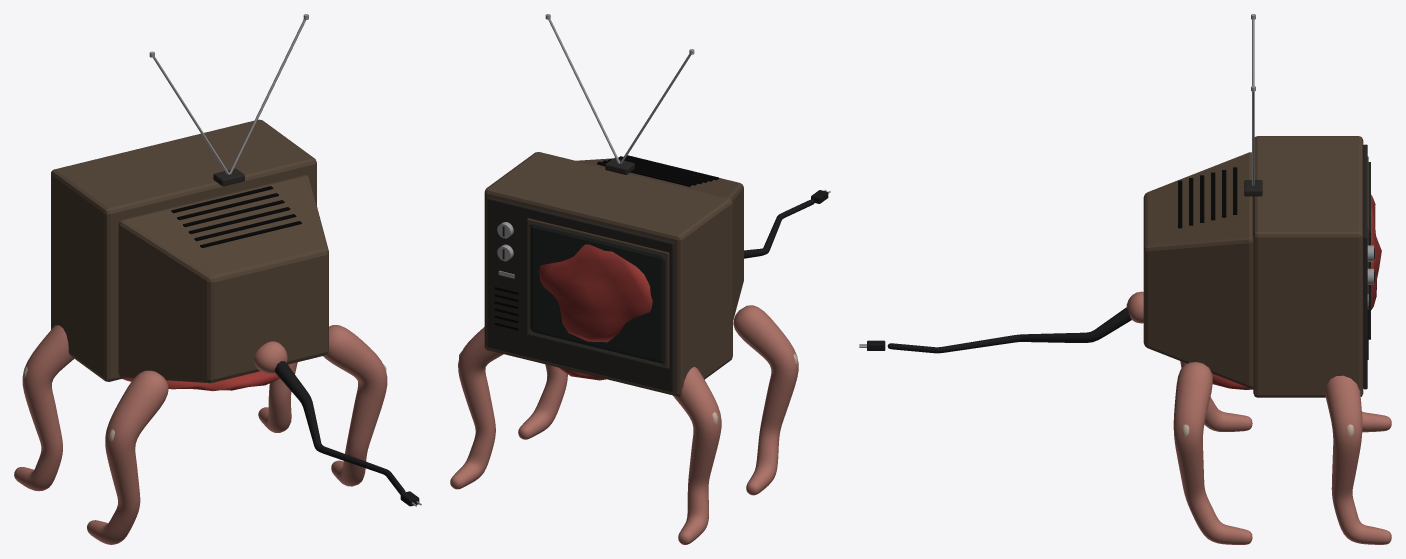
The model's file is crt.glb.
3 renders of one model, left to right at view 1: azimuth 30°, elevation 25°; view 2: azimuth 150°, elevation 25°; view 3: azimuth 270°, elevation 25°, orthographic. The views are drawn at different scales.
Parts seen in each view (by area): view 1: part.001, part, part.036, part.038, part.032, part.028, part.034, part.026, part.027, part.024; view 2: part, part.008, Glass, Meat, part.036, part.032, part.034, part.001, part.009, part.038, part.028, part.024; view 3: part, part.001, part.038, part.034, part.028, part.008, part.036.
Part boxes in pixels (left/top/right/bottom): part.001: left=118, top=175, right=328, bottom=383; part: left=51, top=119, right=316, bottom=381; part.036: left=87, top=370, right=168, bottom=544; part.038: left=323, top=325, right=387, bottom=486; part.032: left=14, top=325, right=74, bottom=491; part.028: left=275, top=361, right=405, bottom=494; part.034: left=258, top=362, right=297, bottom=432; part.026: left=122, top=364, right=289, bottom=391; part.027: left=254, top=341, right=287, bottom=373; part.024: left=229, top=19, right=305, bottom=174; part: left=484, top=152, right=732, bottom=396; part.008: left=487, top=197, right=674, bottom=391; Glass: left=528, top=223, right=665, bottom=365; Meat: left=539, top=244, right=652, bottom=342; part.036: left=733, top=305, right=798, bottom=495; part.032: left=673, top=367, right=721, bottom=544; part.034: left=450, top=327, right=503, bottom=489; part.001: left=576, top=158, right=743, bottom=320; part.009: left=527, top=218, right=669, bottom=368; part.038: left=518, top=364, right=567, bottom=439; part.028: left=744, top=199, right=814, bottom=258; part.024: left=548, top=19, right=619, bottom=163; part: left=1253, top=136, right=1363, bottom=397; part.001: left=1143, top=152, right=1253, bottom=388; part.038: left=1173, top=362, right=1252, bottom=544; part.034: left=1325, top=375, right=1391, bottom=544; part.028: left=887, top=307, right=1131, bottom=353; part.008: left=1363, top=144, right=1367, bottom=389; part.036: left=1180, top=361, right=1252, bottom=431.
Size of the model in its own units: 0.8354 by 1.34 by 1.45.
